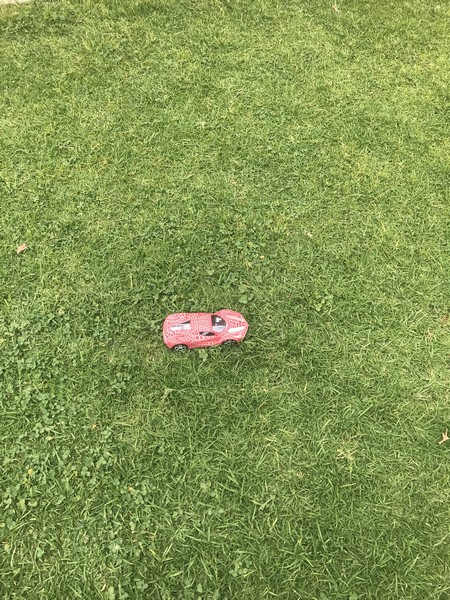RC: (161, 308, 249, 355)
